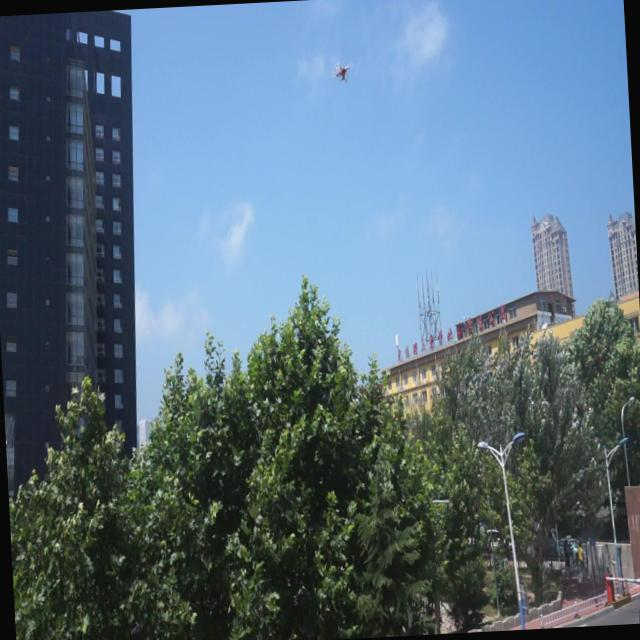drone: (328, 58, 356, 88)
